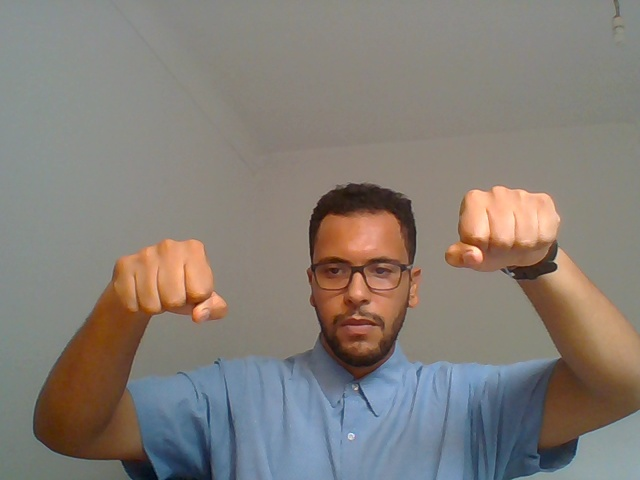yes: (436, 127, 578, 321), (65, 222, 238, 373)
